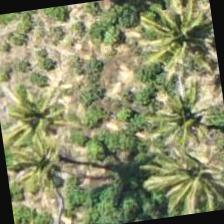Kelapa_Sawit: (0, 67, 91, 169), (0, 113, 92, 212), (142, 67, 223, 168), (128, 0, 220, 79), (146, 132, 223, 220)
